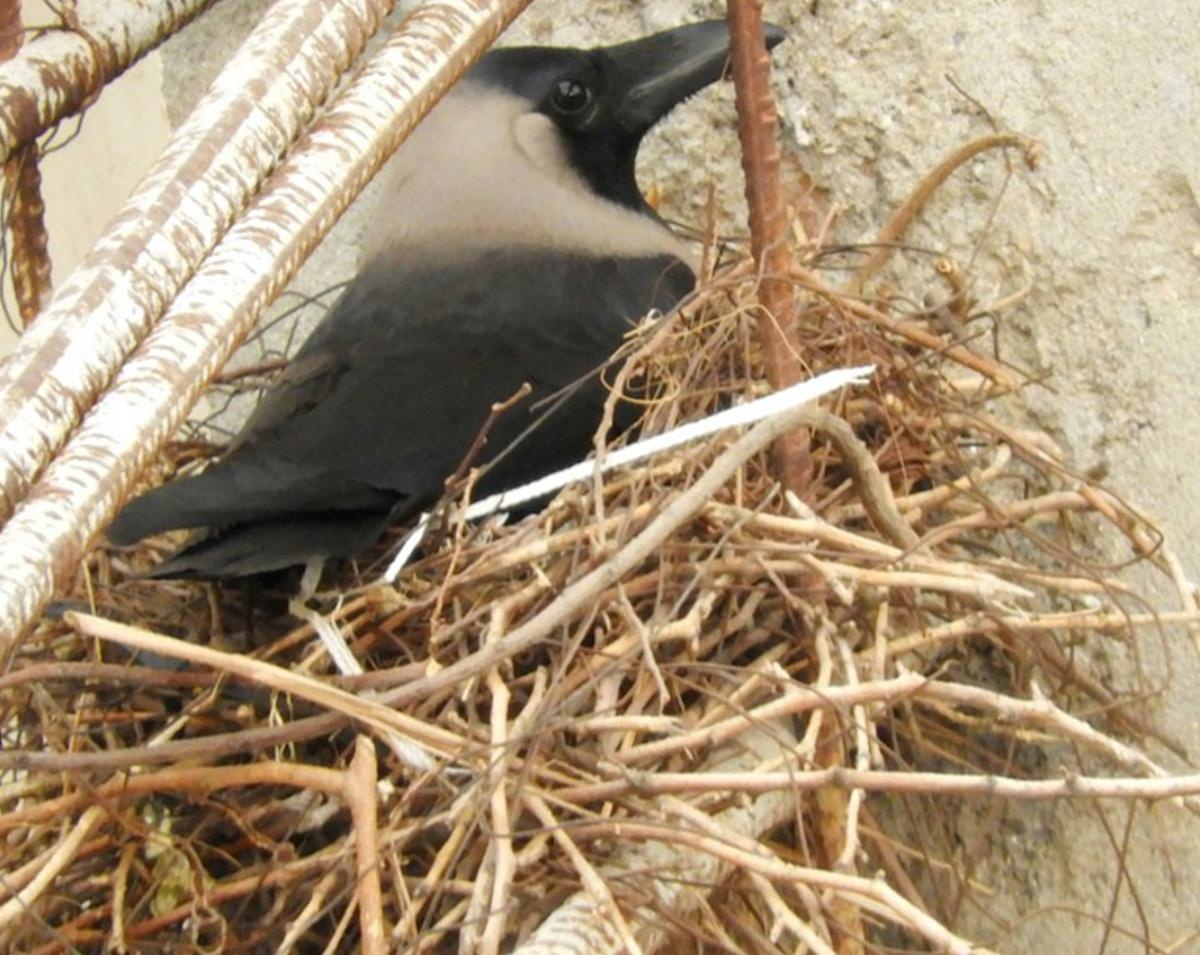crow: (112, 10, 786, 638)
